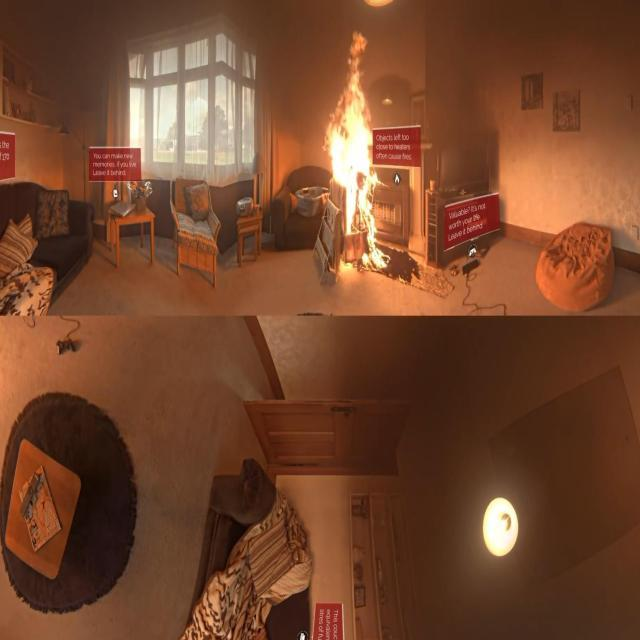smoke: (327, 29, 390, 272)
